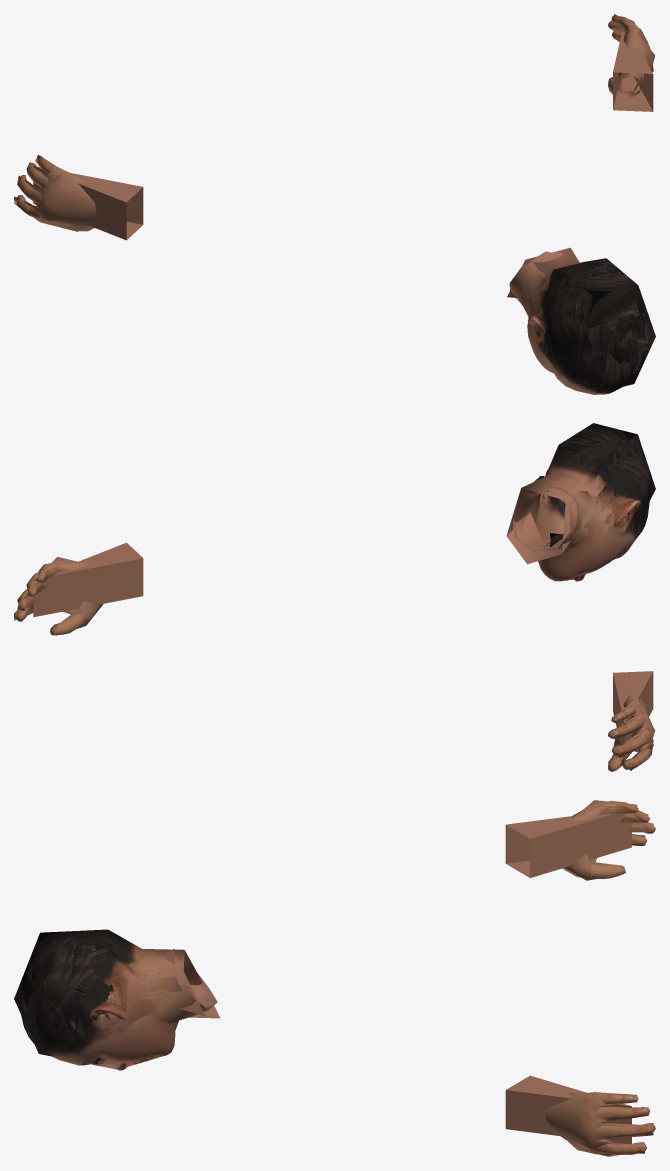
The model's file is head_004_r.obj.
3 renders of one model, top to bottom at view 1: azimuth 30°, elevation 25°; view 2: azimuth 150°, elevation 25°; view 3: azimuth 270°, elevation 25°, orthographic. The views are drawn at different scales.
Visible parts, largest first — view 1: head_004_r_high_1, head_004_r_low_1, head_004_r_med_1; view 2: head_004_r_low_1, head_004_r_high_1, head_004_r_med_1; view 3: head_004_r_low_1, head_004_r_high_1, head_004_r_med_1.
Boxes of the visible parts, x1,y1,x2,y2 form: head_004_r_high_1: [16, 16, 655, 394]; head_004_r_low_1: [33, 31, 655, 392]; head_004_r_med_1: [14, 14, 650, 325]; head_004_r_low_1: [33, 423, 655, 760]; head_004_r_high_1: [16, 451, 655, 771]; head_004_r_med_1: [14, 440, 653, 770]; head_004_r_low_1: [14, 813, 631, 1143]; head_004_r_high_1: [21, 800, 655, 1156]; head_004_r_med_1: [25, 800, 653, 1154].
Bounding box in the file's own units: 1.09 × 0.209 × 0.9365.
